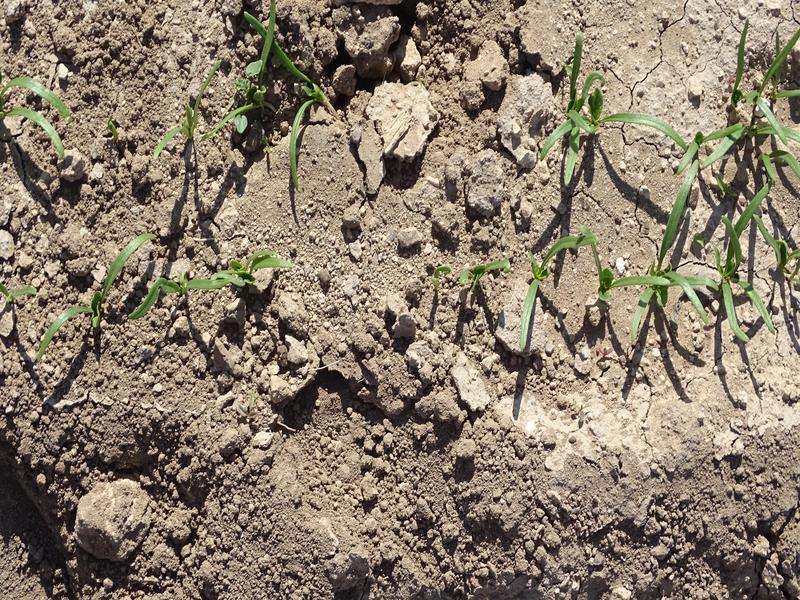Espinaca: (499, 182, 790, 352), (541, 37, 800, 176), (40, 232, 300, 357), (167, 17, 333, 173), (4, 72, 66, 155), (451, 258, 511, 289)
